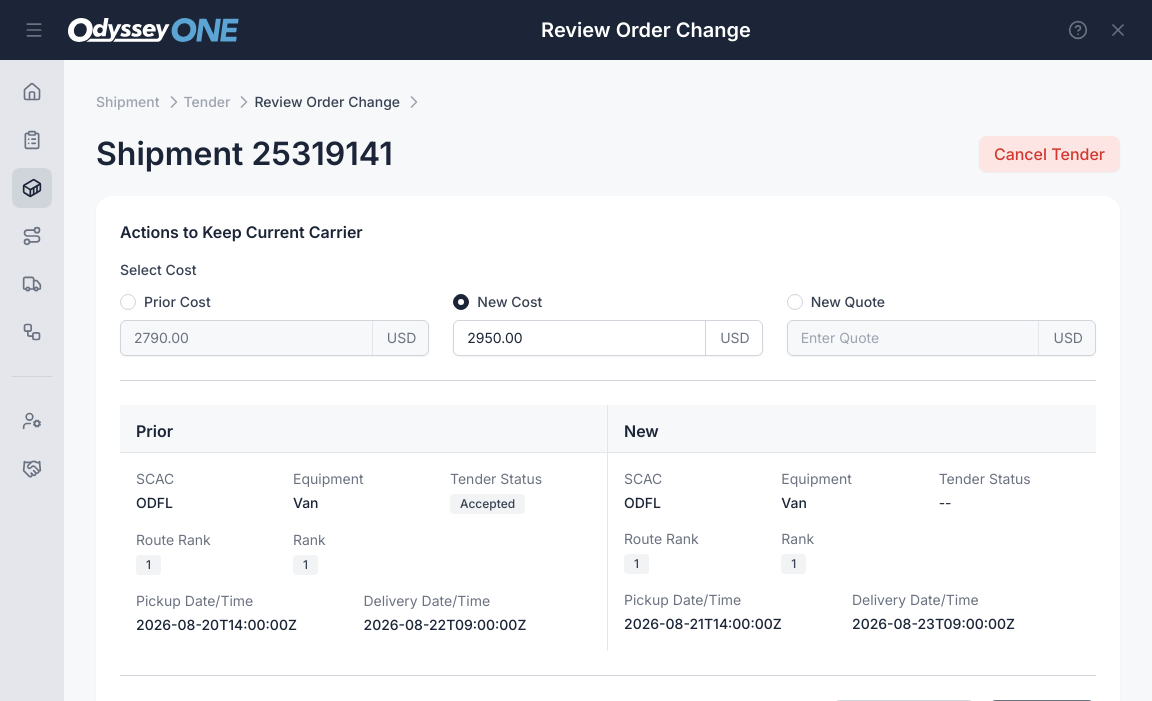
Scenario: OrderChangeReviewRoute — action confirmations › an action opens a dialog and does NOT resolve until it is confirmed
Step 1. Click the button "Cancel Tender" → point(1049, 154), box [979,136,1120,172]
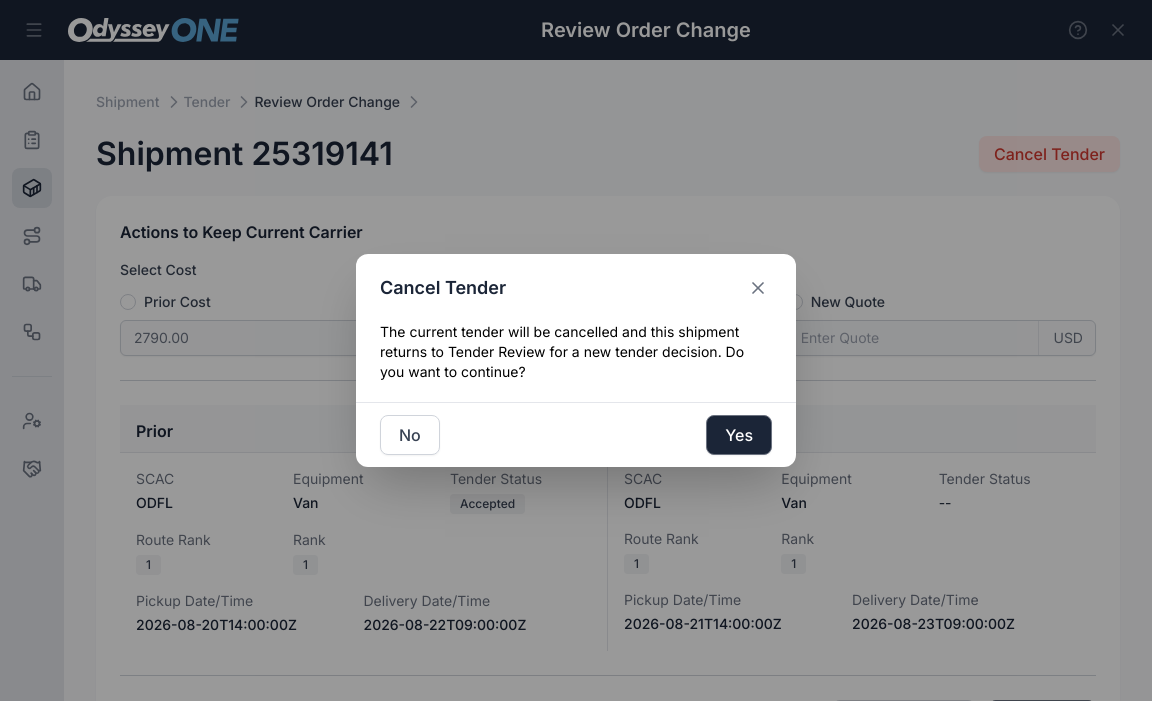
Expected: the dialog is shown, [356,254,796,466]
